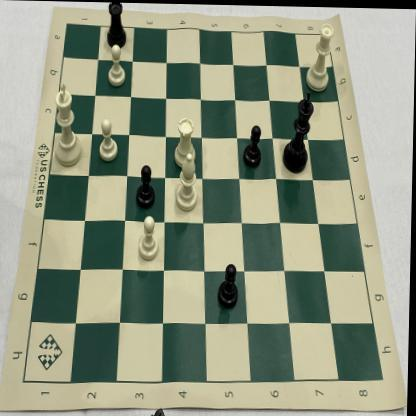black-king: (279, 86, 318, 176)
black-pawn: (241, 119, 266, 170), (218, 258, 242, 310), (134, 160, 159, 209)
black-rook: (103, 2, 130, 52)
white-bishop: (174, 150, 202, 216)
white-king: (50, 78, 88, 171)
white-pawn: (136, 212, 163, 262), (96, 113, 121, 165), (105, 39, 131, 88)
white-queen: (302, 18, 338, 94)
white-rook: (171, 112, 202, 172)
